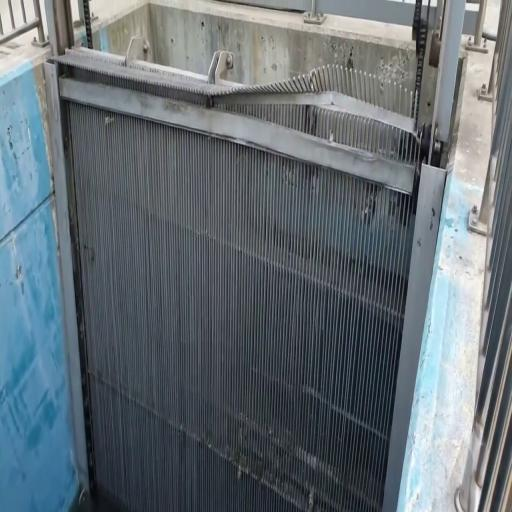rake: (50, 55, 448, 511)
rake_broken: (182, 69, 320, 116), (352, 96, 430, 154), (301, 62, 381, 100), (302, 95, 371, 130), (358, 75, 415, 113)
